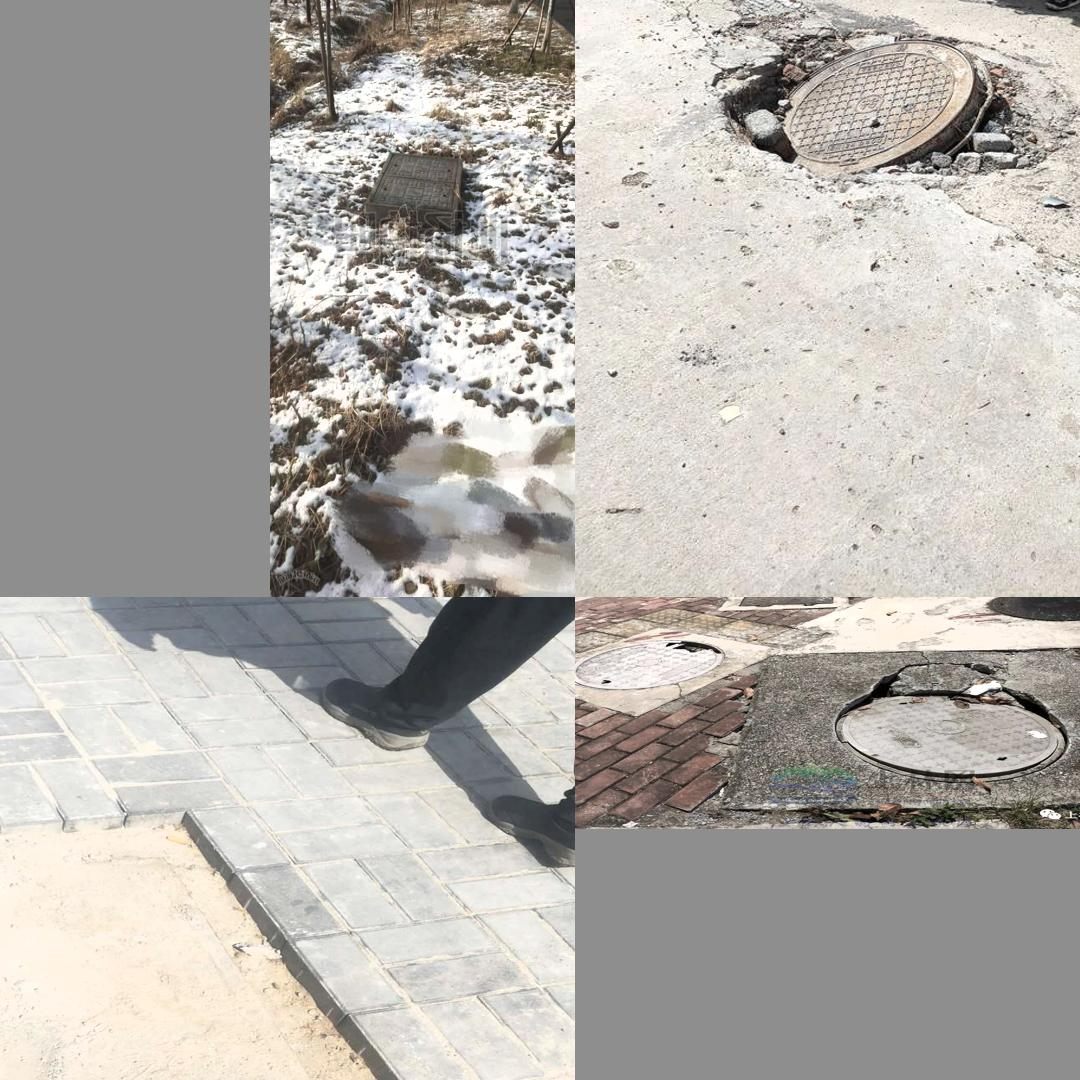circle: (0, 830, 474, 1080), (666, 0, 1080, 224), (713, 643, 1080, 811), (358, 151, 467, 239)
